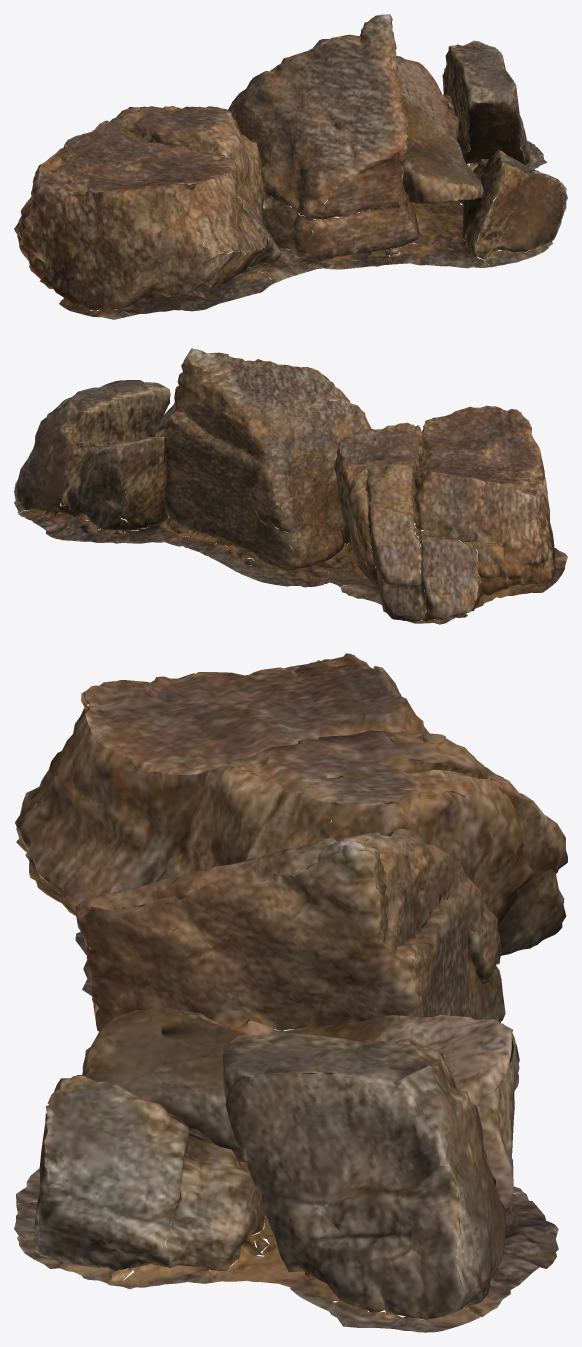
Rendered from namaqualand_boulder_02.glb.
3 renders of one model, top to bottom at view 1: azimuth 30°, elevation 25°; view 2: azimuth 150°, elevation 25°; view 3: azimuth 270°, elevation 25°, orthographic. The views are drawn at different scales.
Parts seen in each view (by area): view 1: boulder_02; view 2: boulder_02; view 3: boulder_02.
Part boxes in pixels (x1=…): boulder_02: x1=14, y1=14, x2=567, y2=319; boulder_02: x1=14, y1=348, x2=567, y2=624; boulder_02: x1=14, y1=653, x2=567, y2=1332.
Size of the model in its own units: 2.53 by 0.8812 by 1.23.
Materials: 1 (1 with a texture image).
